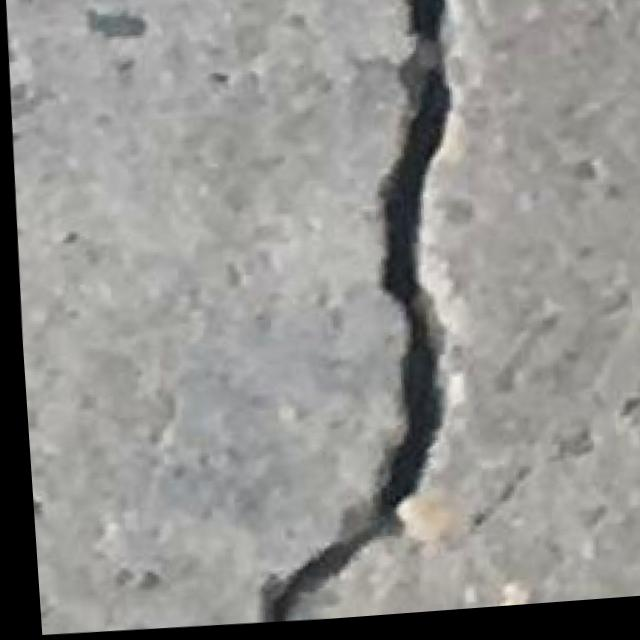Crack: (194, 0, 493, 629)
